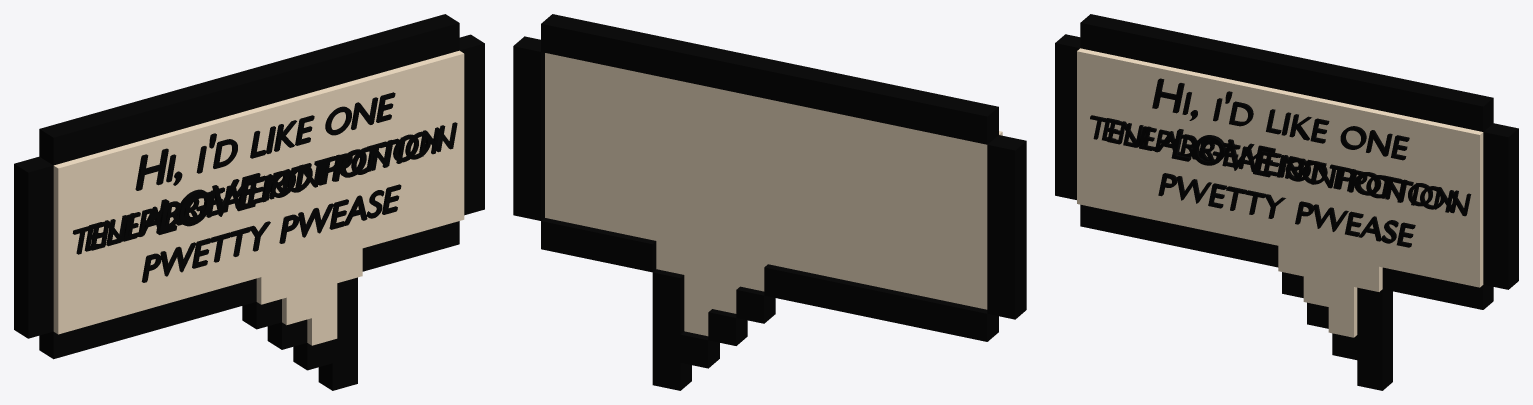
The model's file is SpeechBubbles.fbx.
3 renders of one model, left to right at view 1: azimuth 30°, elevation 25°; view 2: azimuth 150°, elevation 25°; view 3: azimuth 330°, elevation 25°, orthographic. The views are drawn at different scales.
Parts seen in each view (by area): view 1: Bubble01_Fill, Bubble01_Outline, Text, Text.001, Text.002; view 2: Bubble01_Fill, Bubble01_Outline; view 3: Bubble01_Fill, Bubble01_Outline, Text, Text.001, Text.002.
Part boxes in pixels (x1=…): Bubble01_Fill: x1=53, y1=50, x2=464, y2=345; Bubble01_Outline: x1=14, y1=14, x2=484, y2=390; Text: x1=72, y1=94, x2=457, y2=282; Text.001: x1=84, y1=92, x2=445, y2=281; Text.002: x1=156, y1=140, x2=392, y2=234; Bubble01_Fill: x1=545, y1=53, x2=1002, y2=336; Bubble01_Outline: x1=513, y1=14, x2=1026, y2=390; Bubble01_Fill: x1=1077, y1=48, x2=1483, y2=337; Bubble01_Outline: x1=1055, y1=14, x2=1518, y2=390; Text: x1=1090, y1=79, x2=1471, y2=247; Text.001: x1=1102, y1=78, x2=1458, y2=246; Text.002: x1=1171, y1=129, x2=1405, y2=199.
Bounding box in the file's own units: 143 × 95.13 × 18.33.
